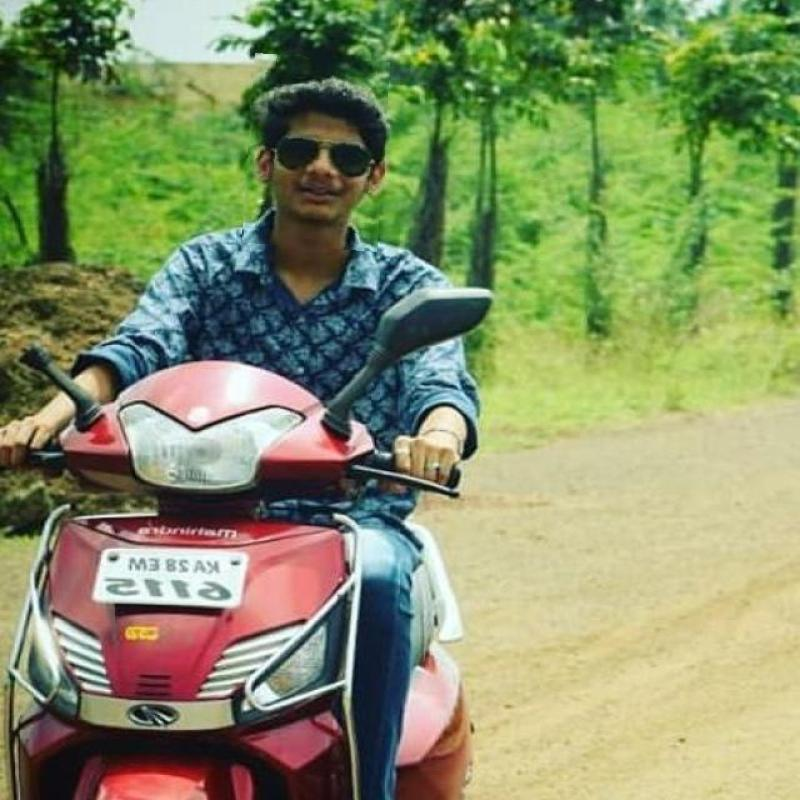nohelmet: (245, 56, 387, 250)
